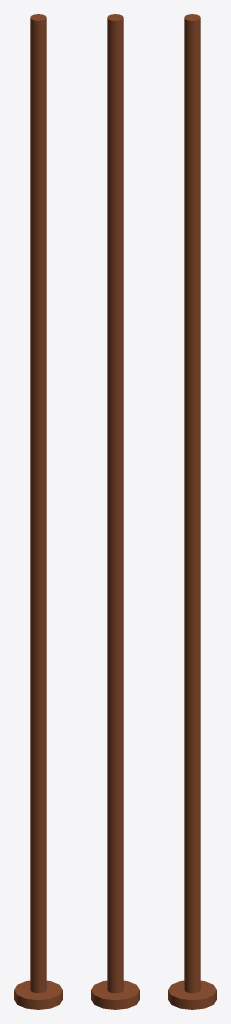
Rendered from direk.fbx.
3 views of the same model, side by side, from view 1: azimuth 90°, elevation 25°; view 2: azimuth 150°, elevation 25°; view 3: azimuth 270°, elevation 25° (orthographic).
Parts seen in each view (by area): view 1: direk; view 2: direk; view 3: direk.
Part boxes in pixels (bbox=[...]): direk: bbox=[14, 14, 62, 1009]; direk: bbox=[91, 14, 139, 1009]; direk: bbox=[168, 14, 216, 1009].
Bounding box in the file's own units: 33.63 × 745 × 33.63.
